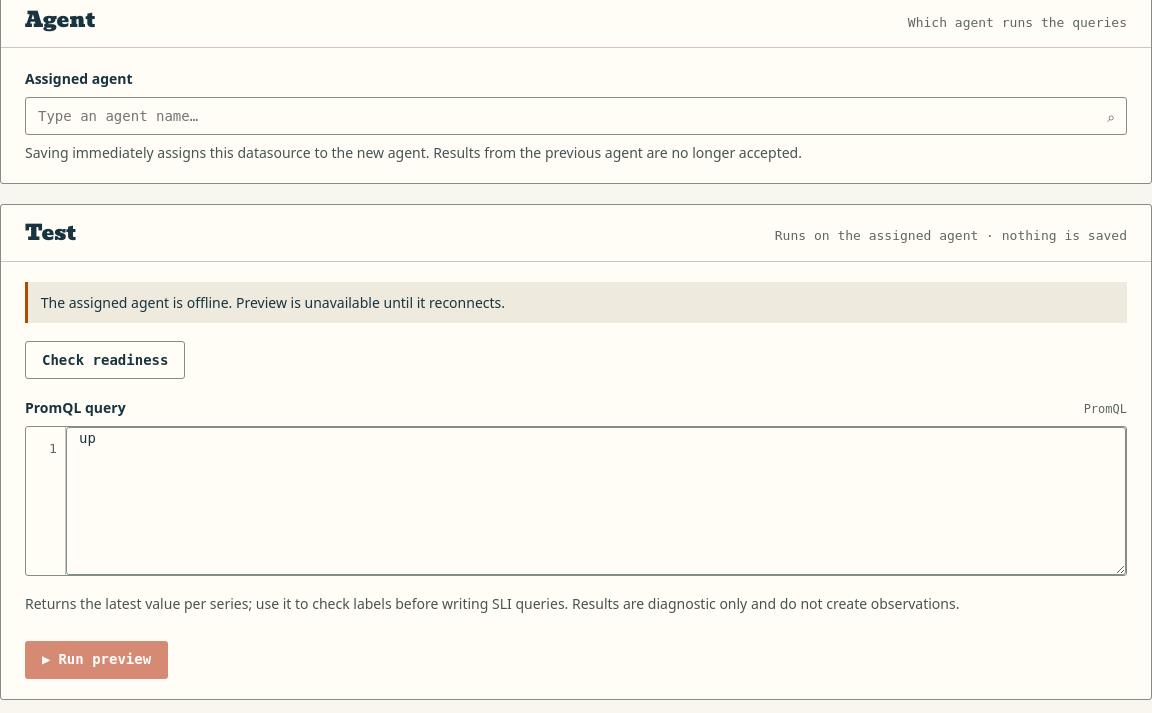
Test: datasource page › offers readiness retry after an offline status and recovers when the agent reconnects
(page scrolled)
Expected: the text "The assigned agent is offline. Preview is unavailable until it reconnects." is shown, [25,282,1127,323]
Click the button "Check readiness" at (105, 360), box [25,341,185,379]
(page scrolled)
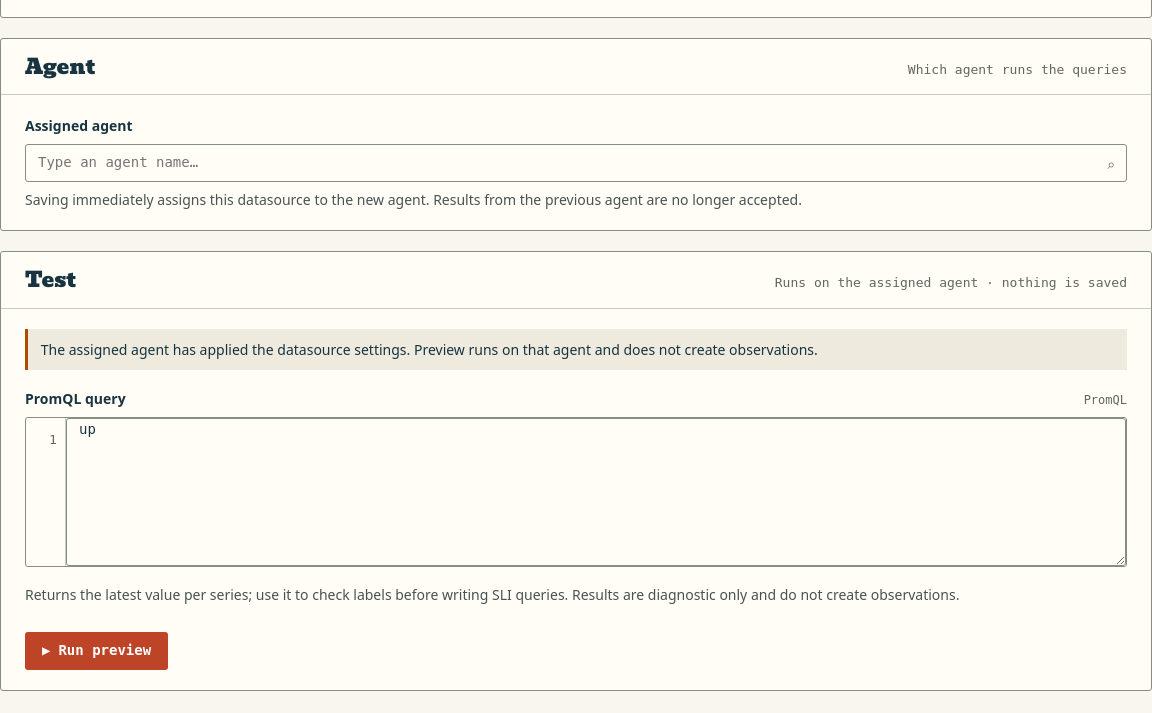
Now the button "▶ Run preview" is enabled, box [25,632,168,670]
